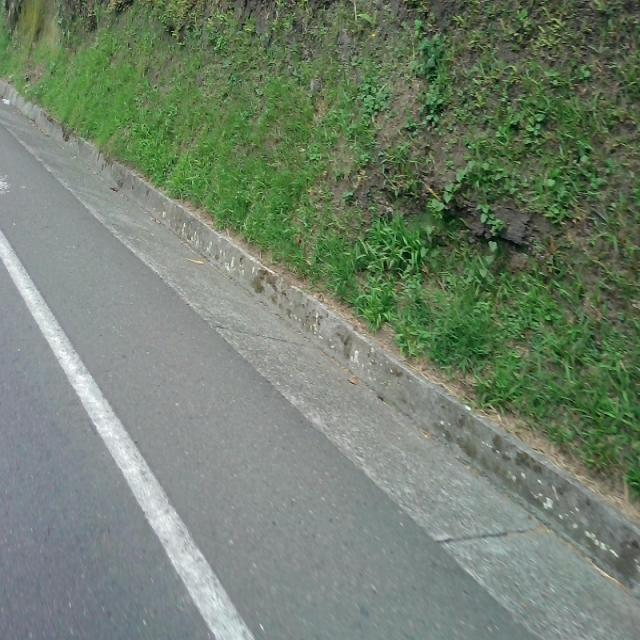DITCH: (1, 47, 638, 638), (1, 51, 638, 638), (1, 78, 638, 638)
